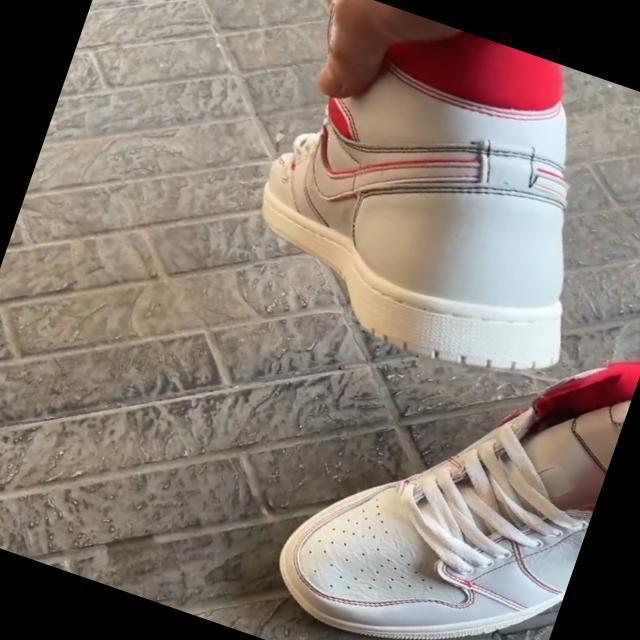nike fake jordan 1: (216, 0, 640, 403), (264, 267, 640, 640)
